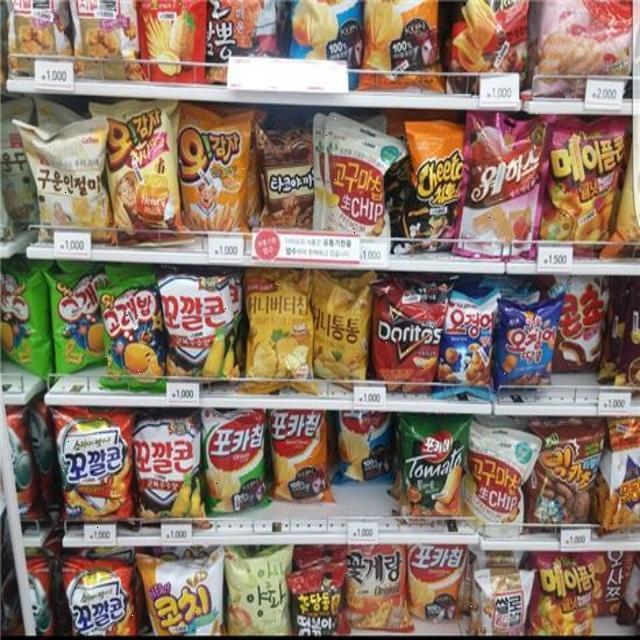product: (16, 119, 107, 250), (49, 407, 131, 531), (471, 108, 541, 251), (106, 106, 179, 243), (184, 106, 250, 245), (159, 269, 236, 388), (370, 275, 444, 393), (321, 118, 387, 244), (245, 268, 313, 389), (402, 122, 467, 248), (139, 411, 207, 527), (92, 284, 161, 389), (144, 555, 227, 640), (59, 556, 135, 640), (209, 412, 269, 514), (498, 302, 560, 393), (346, 544, 410, 632), (273, 402, 329, 501), (229, 554, 291, 637), (471, 569, 534, 628)
